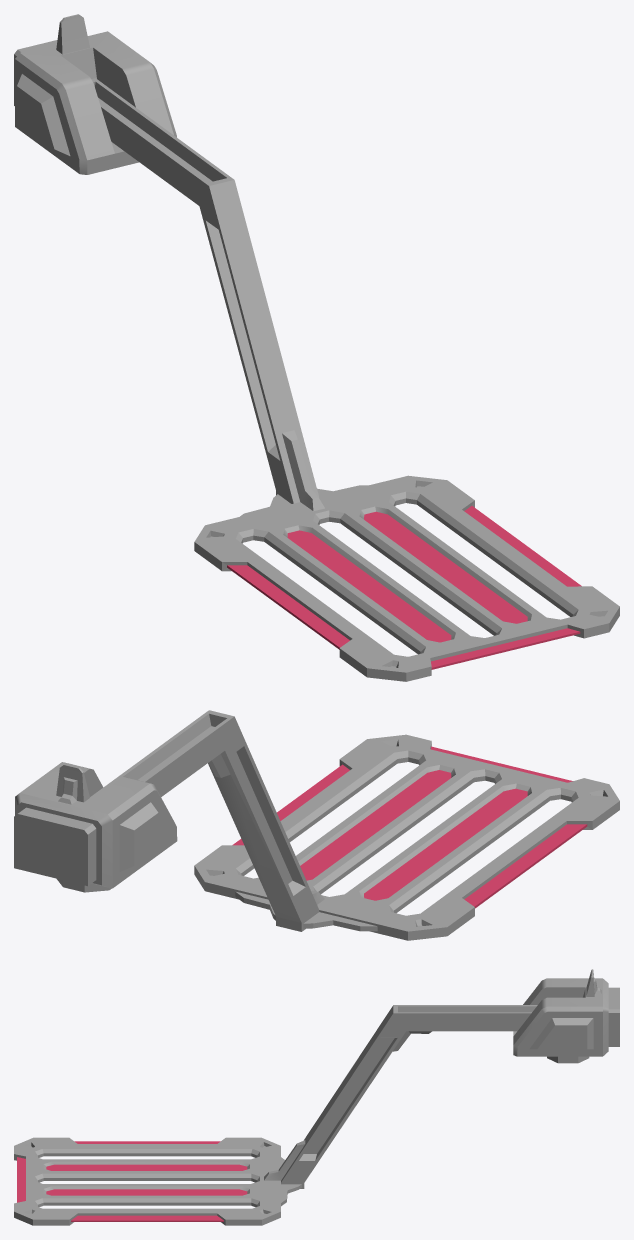
File: Spatula.fbx
The picture shows the model from 3 angles, top to bottom: view 1: azimuth 30°, elevation 25°; view 2: azimuth 150°, elevation 25°; view 3: azimuth 270°, elevation 25°; orthographic projection. The views are drawn at different scales.
Parts seen in each view (by area): view 1: Spatula, spatulaBase; view 2: Spatula, spatulaBase; view 3: Spatula, spatulaBase.
Boxes of the visible parts, x1,y1,x2,y2 form: Spatula: [91, 78, 619, 681]; spatulaBase: [14, 14, 176, 174]; Spatula: [90, 710, 619, 940]; spatulaBase: [14, 762, 177, 892]; Spatula: [14, 1005, 537, 1225]; spatulaBase: [513, 969, 619, 1063].
Size of the model in its own units: 5.08 by 6.17 by 15.89.
